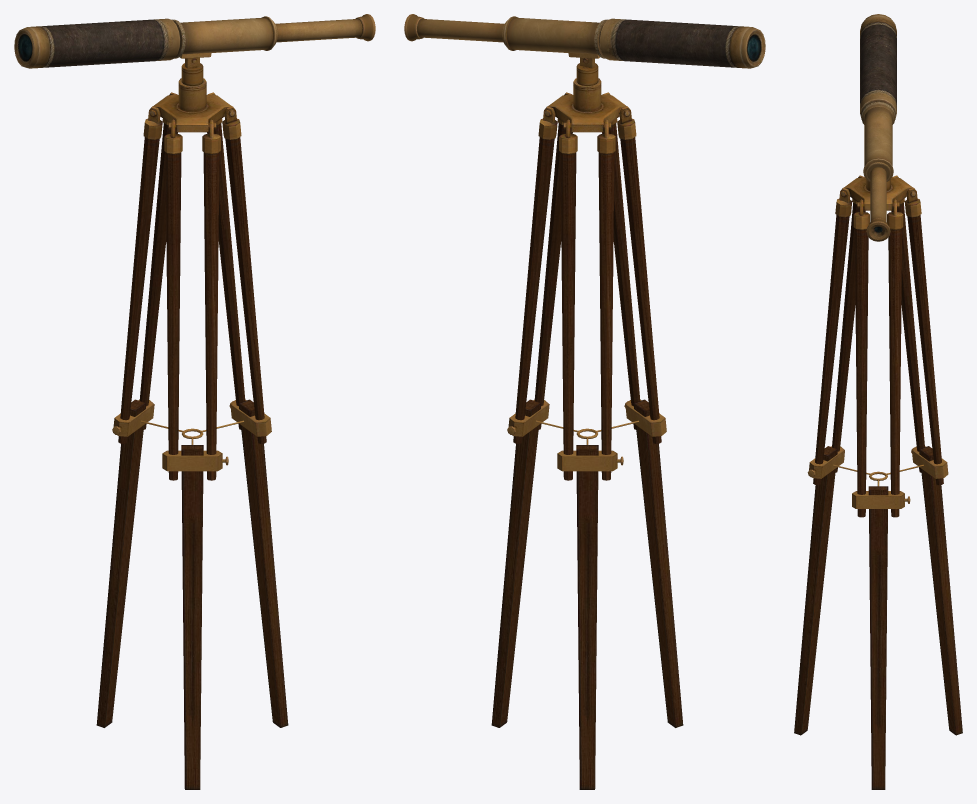
File: telescope-tripod.glb
The picture shows the model from 3 angles, left to right: view 1: azimuth 30°, elevation 25°; view 2: azimuth 150°, elevation 25°; view 3: azimuth 270°, elevation 25°; orthographic projection. The views are drawn at different scales.
Visible parts, largest first — view 1: telescope-tripod; view 2: telescope-tripod; view 3: telescope-tripod.
Boxes of the visible parts, x1=… form: telescope-tripod: x1=14, y1=14, x2=375, y2=789; telescope-tripod: x1=404, y1=14, x2=765, y2=789; telescope-tripod: x1=794, y1=14, x2=962, y2=789.
Bounding box in the file's own units: 0.8492 × 1.76 × 0.4031.
Materials: 2 (2 with a texture image).
